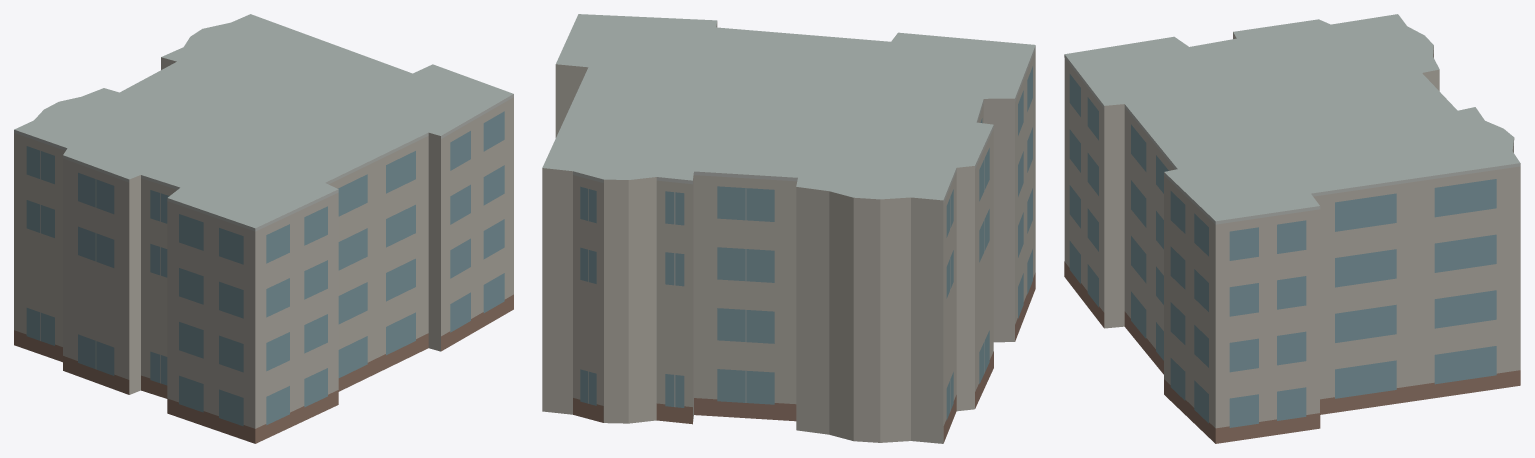
Rendered from survey-upis-32863106.glb.
3 renders of one model, left to right at view 1: azimuth 30°, elevation 25°; view 2: azimuth 150°, elevation 25°; view 3: azimuth 270°, elevation 25°, orthographic. The views are drawn at different scales.
Parts seen in each view (by area): view 1: survey-upis-32863106.tmp; view 2: survey-upis-32863106.tmp; view 3: survey-upis-32863106.tmp.
Boxes of the visible parts, bbox=[...] form: survey-upis-32863106.tmp: bbox=[14, 14, 513, 443]; survey-upis-32863106.tmp: bbox=[542, 14, 1035, 443]; survey-upis-32863106.tmp: bbox=[1064, 14, 1520, 443].
Size of the model in its own units: 32.46 by 16.25 by 30.18.
